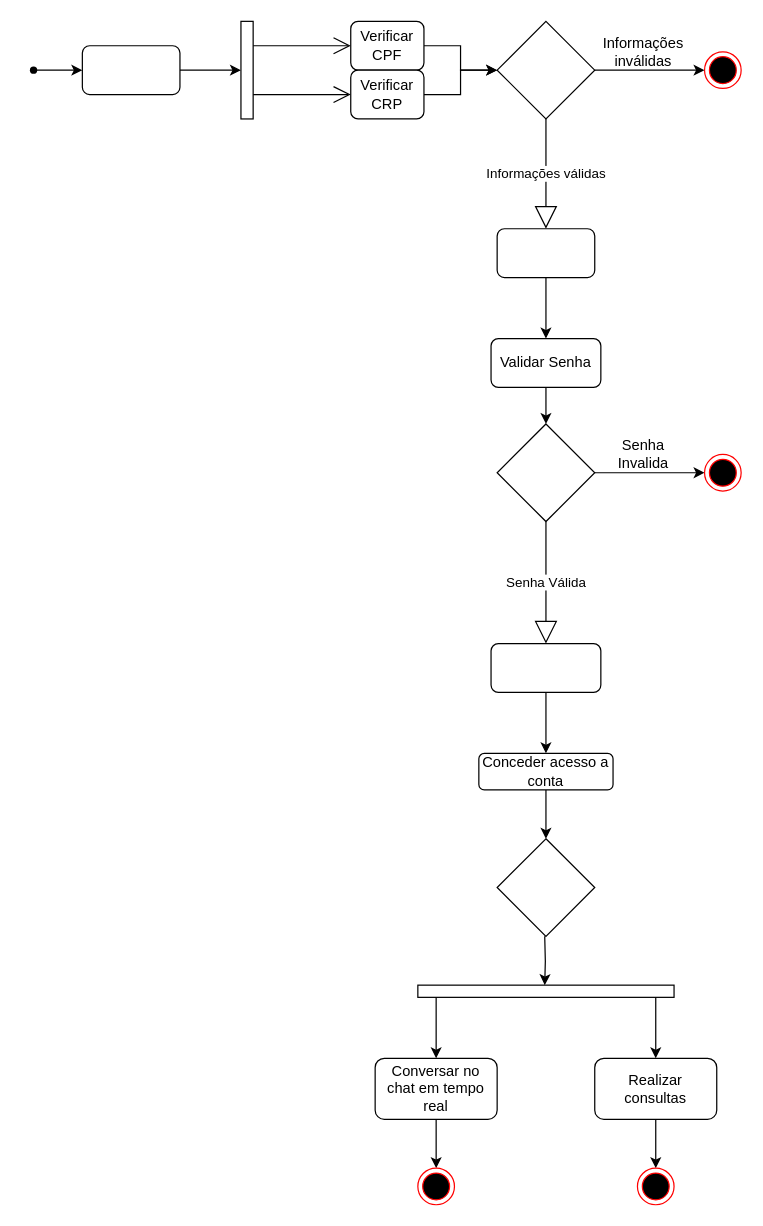
This 763x1226 diagram has some shape labels left out. The shapes that lost their labels are listed below. From the top down, each one's centre as x and y in pixels, then its label:
the point at 130,70: Receber informações de login
the point at 545,253: Receber Senha
the point at 545,667: Enviar confirmação
